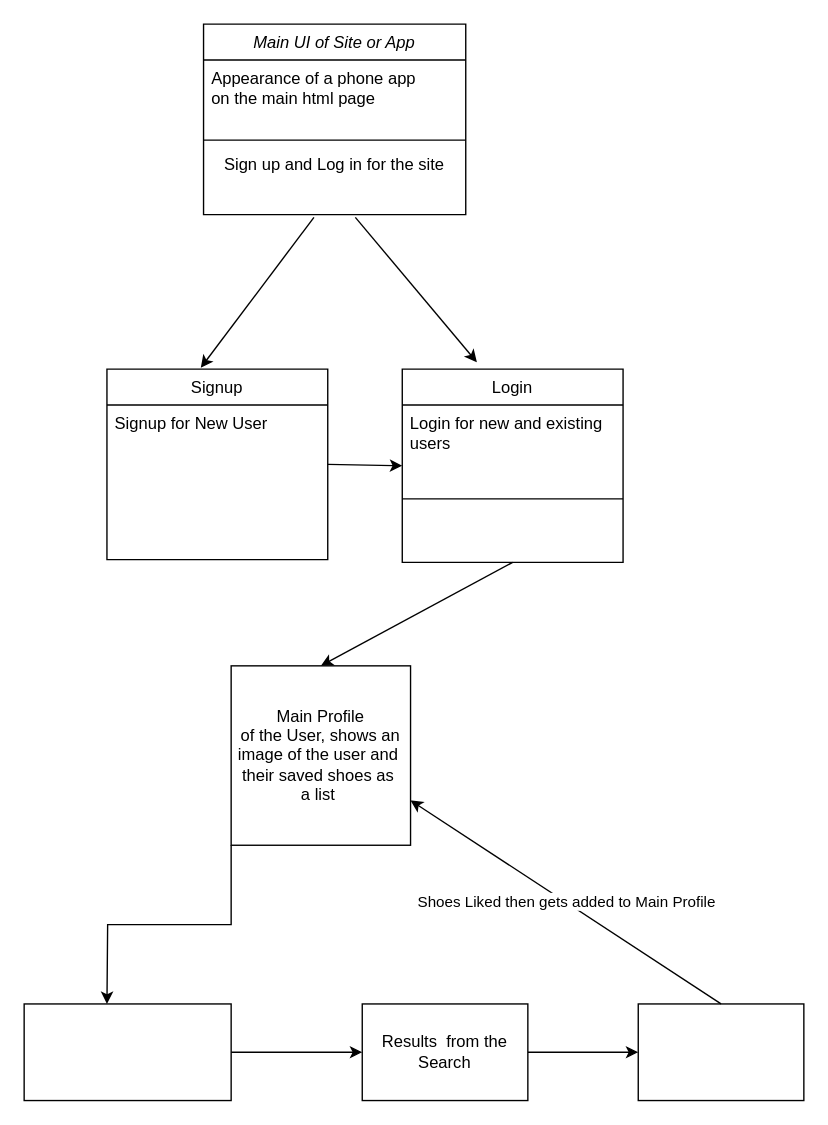
This 828x1125 diagram has some shape labels left out. Here are the shapes that lost their labels. From the top down, the centre of each, then its label:
At point (127, 1052): "Search function for looking up new shoes to add to the list.".
At point (720, 1052): "Like Shoes to add to list on main profile".
